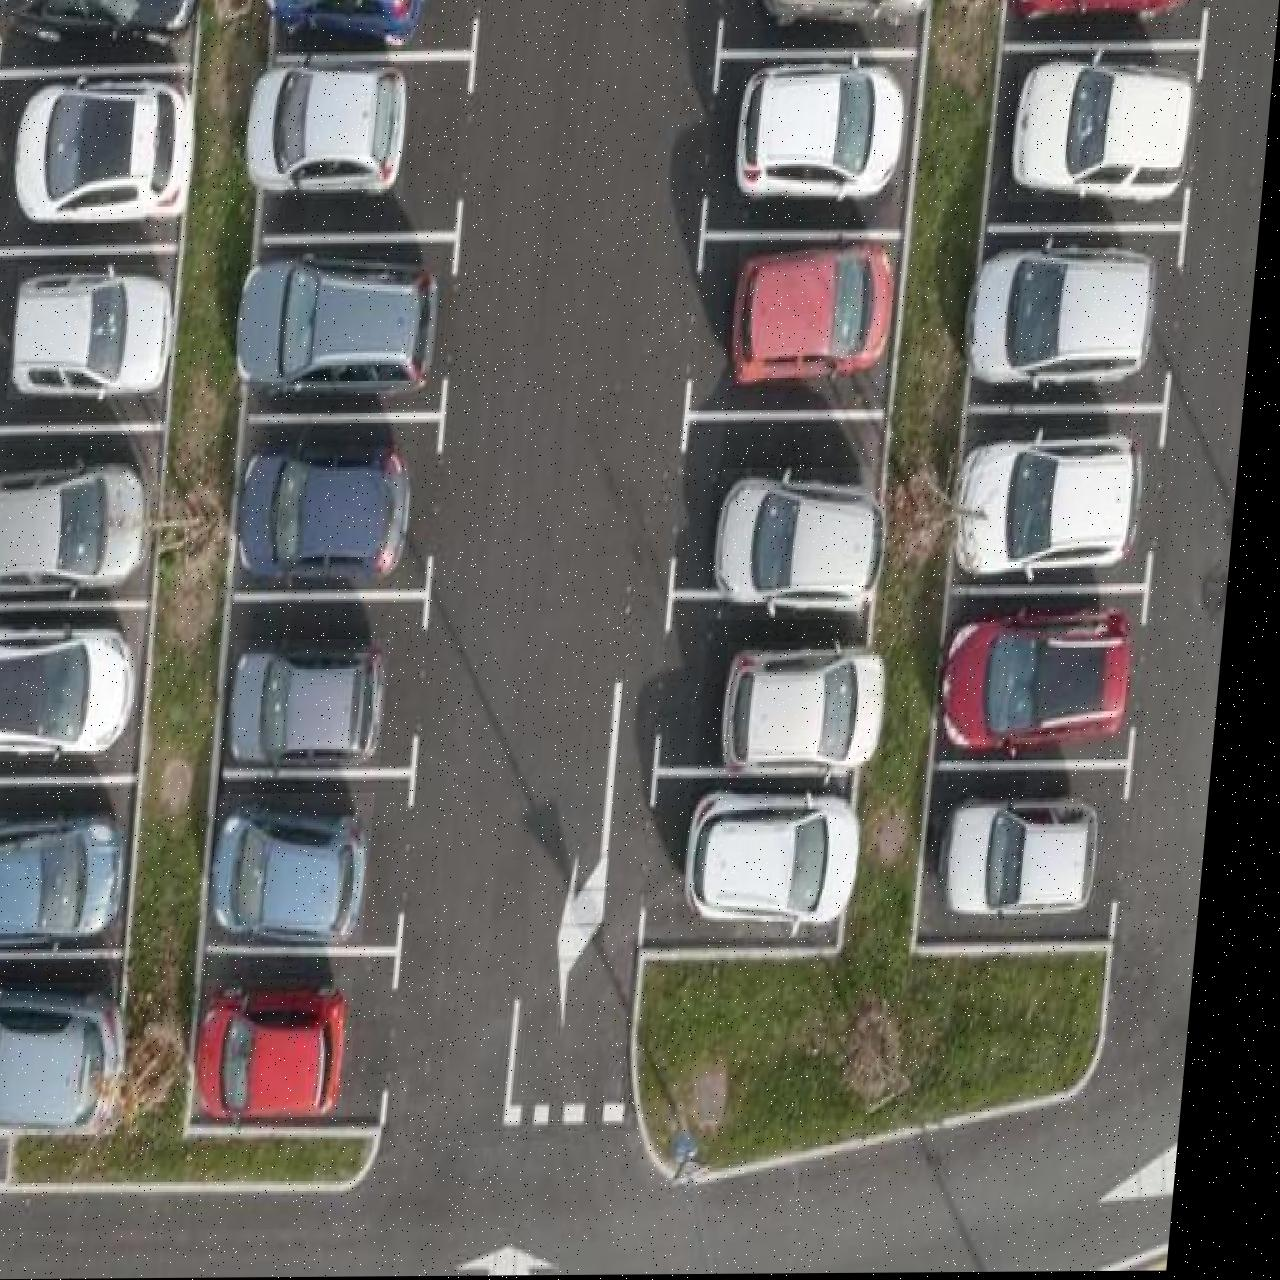car: (238, 251, 448, 401), (951, 605, 1151, 761), (956, 429, 1158, 584), (240, 423, 428, 588), (968, 239, 1169, 393), (13, 75, 203, 224), (696, 789, 883, 940), (1012, 57, 1204, 204), (720, 469, 903, 621), (735, 59, 913, 204), (730, 642, 905, 789), (735, 240, 907, 388), (224, 794, 390, 945), (0, 982, 154, 1136), (244, 62, 415, 198), (14, 265, 185, 400), (0, 458, 165, 598), (213, 980, 372, 1124), (238, 639, 403, 770), (0, 622, 155, 762), (949, 795, 1119, 920), (0, 811, 145, 948), (0, 0, 202, 48), (263, 0, 428, 50), (751, 0, 934, 29), (1003, 0, 1201, 25)
